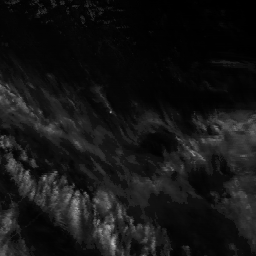Target: (108, 110, 113, 115)
